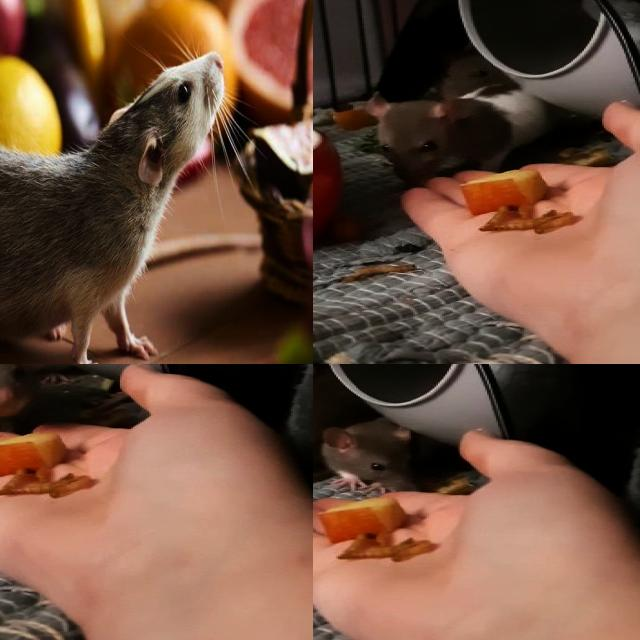rat: (0, 41, 245, 364), (372, 85, 595, 189), (322, 412, 428, 500), (313, 370, 374, 466), (430, 51, 523, 101), (0, 364, 54, 444)
